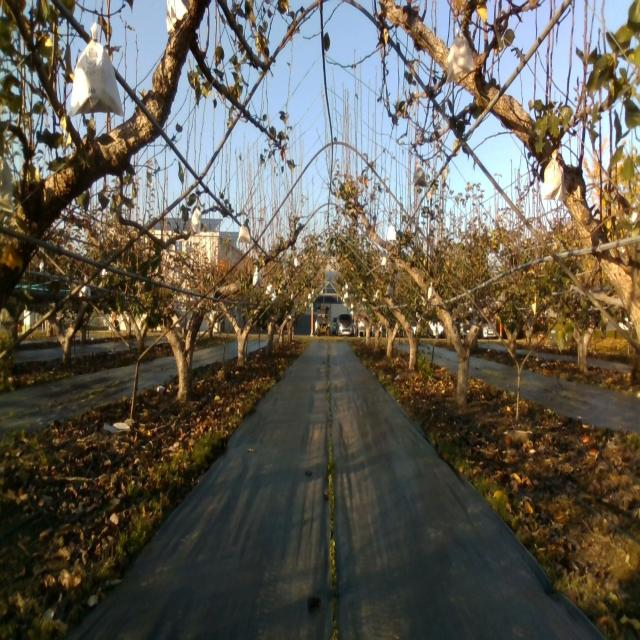pearbags: (69, 23, 125, 122), (445, 31, 474, 84), (541, 150, 565, 198), (166, 0, 188, 33), (413, 162, 426, 188), (237, 222, 251, 244), (191, 208, 202, 234)
